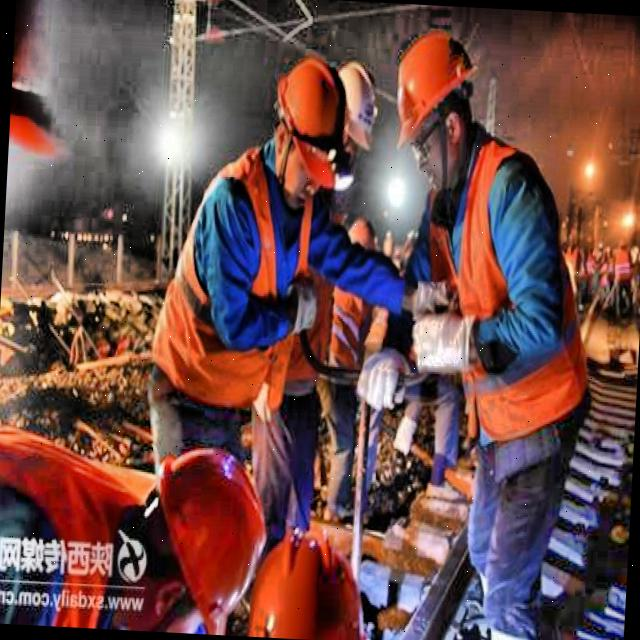helmet: (118, 430, 284, 626), (388, 26, 490, 182), (272, 55, 360, 210), (326, 54, 378, 144)
